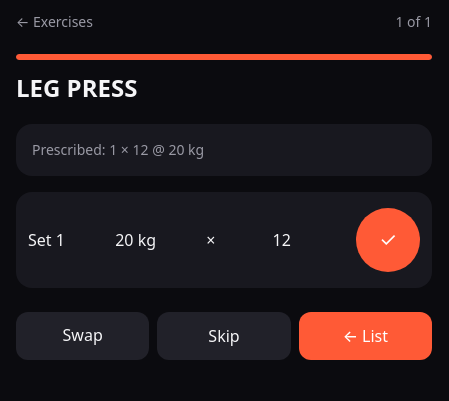
Test case: SessionExercise — logging a set › Undo reverts the just-logged set back to pending, in the UI and in Dexie
Click the button named "Log set 1" at [388, 240], box [356, 208, 420, 272]
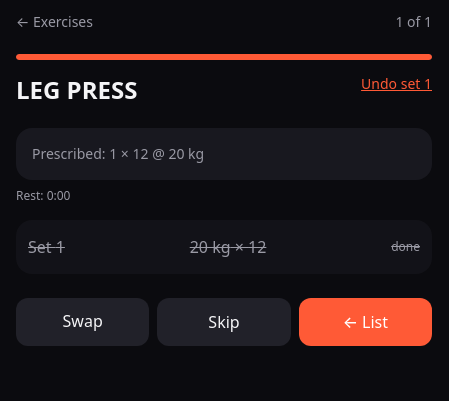
Expected: the text "done" is shown, [391, 239, 420, 255]
Click the button "Undo set 1" at [397, 84], box [361, 60, 432, 108]
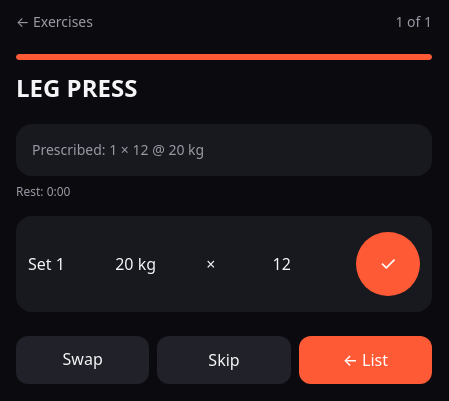
Expected: the text "done" is gone
Expected: the button named "Log set 1" is shown, [356, 232, 420, 296]
Expected: the button "Undo set" is gone
